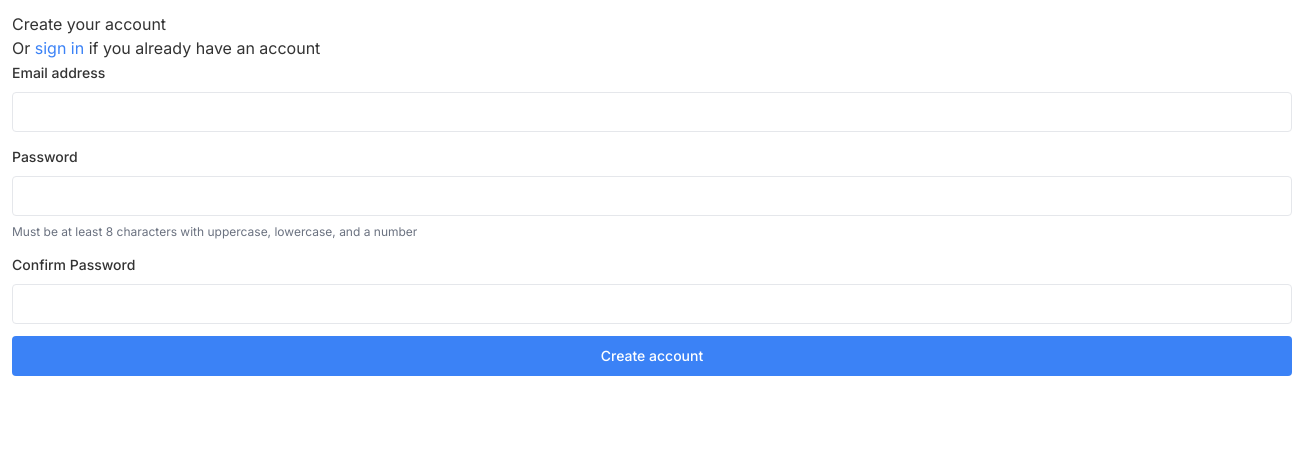
Test: Sign-Up Error Handling › Client-Side Validation Errors › should show error when password is too short
Type "test@example.com" into the field labelled "Email address" at (652, 112), box 12,92 -> 1292,132
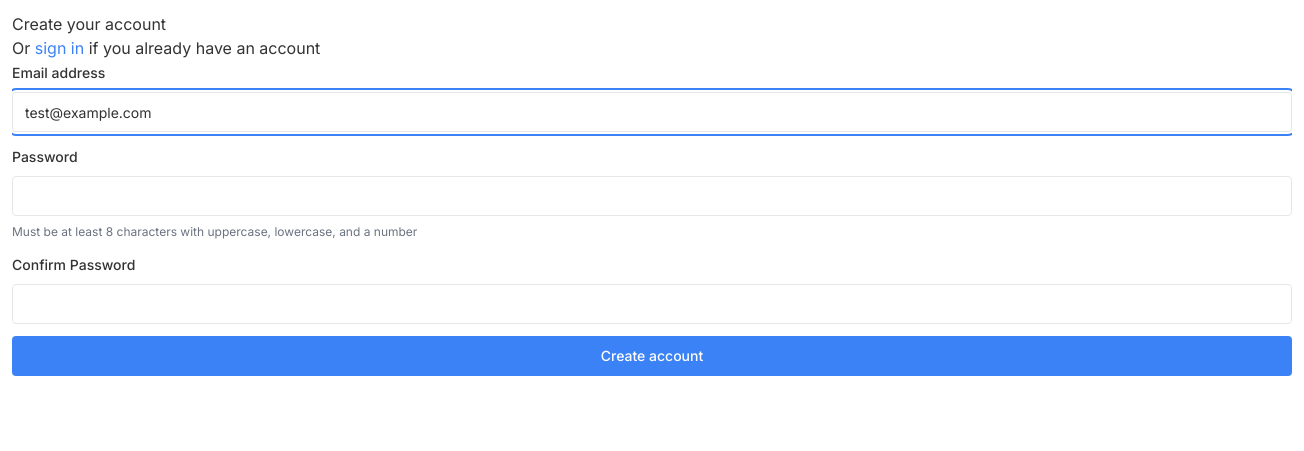
Type "short" into the password field labelled "Password" at (652, 196), box 12,176 -> 1292,216
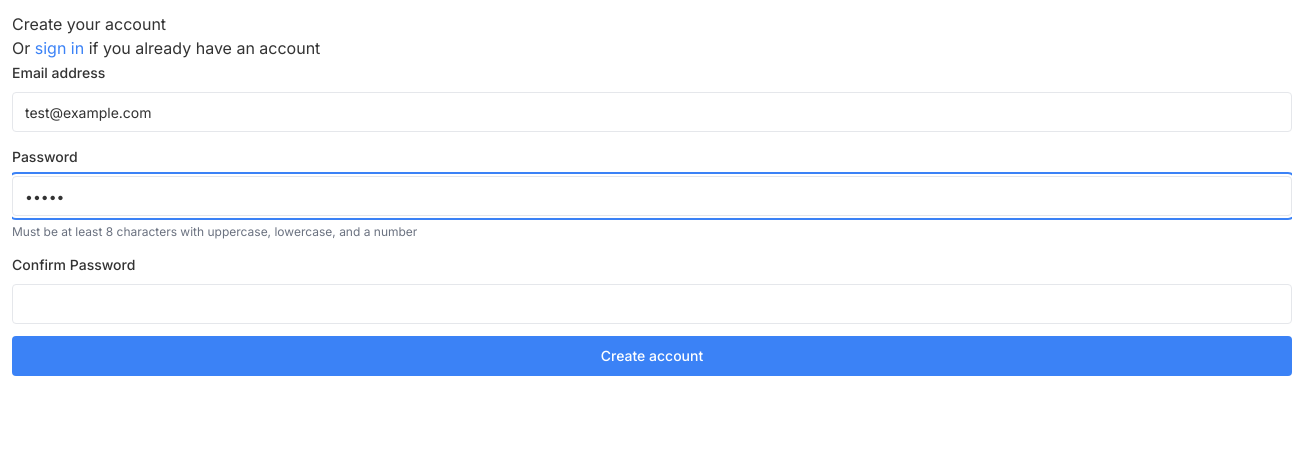
Type "short" into the password field labelled "Confirm Password" at (652, 304), box 12,284 -> 1292,324
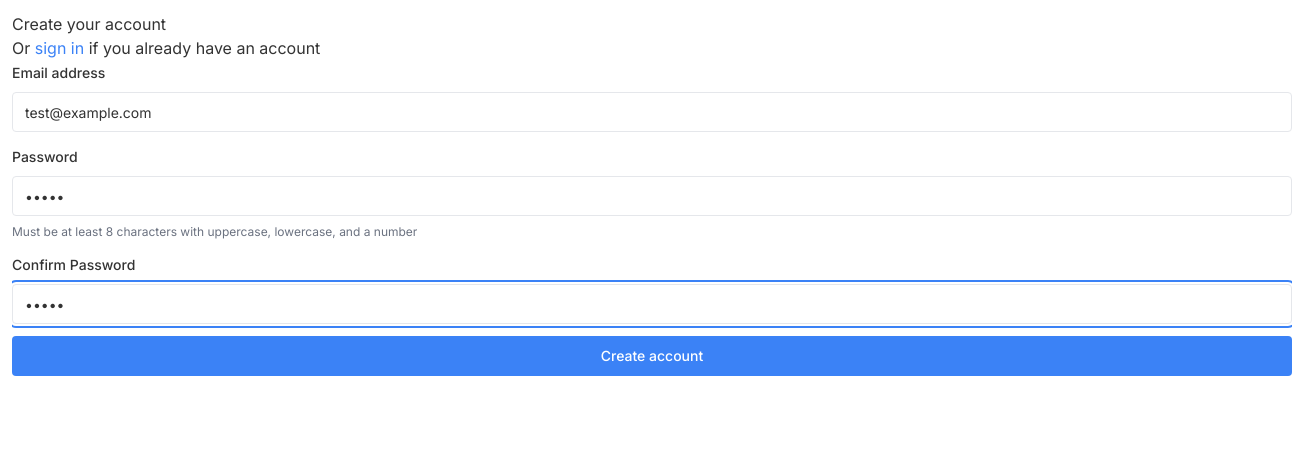
Click the button "Create account" at (652, 356), box 12,336 -> 1292,376
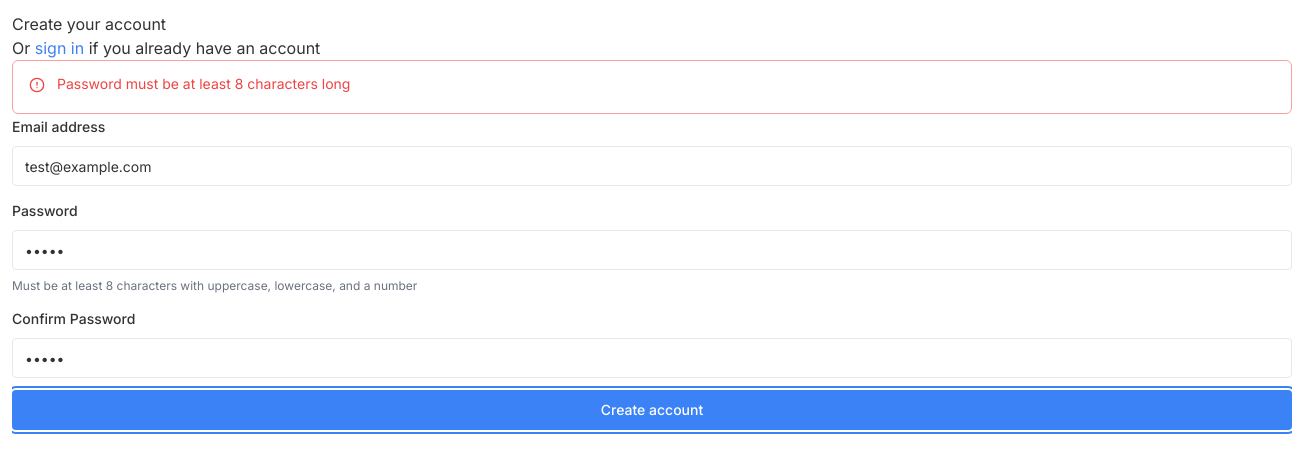
Result: the message "Password must be at least 8 characters long" is shown at 12,60 -> 1292,114
Result: the text "Password must be at least 8 characters long" is shown at 57,75 -> 350,92
